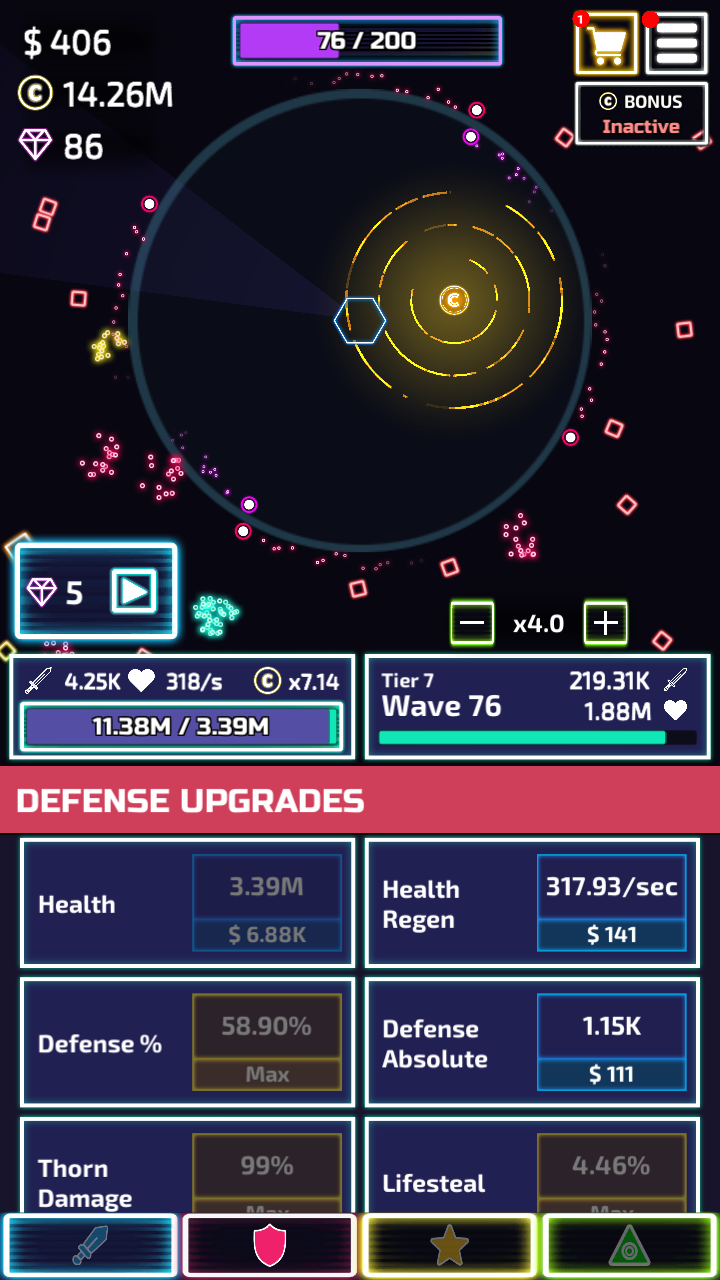B_Gem_Ad: (9, 538, 181, 637)
B_Menu_Action_Required: (638, 7, 703, 72)
B_Menu_Closed: (573, 8, 707, 75)
B_Shop_Action_Required: (570, 11, 636, 71)
B_Slot: (17, 838, 353, 959), (366, 977, 696, 1100), (366, 840, 697, 961), (19, 979, 352, 1098), (19, 1119, 347, 1210), (365, 1119, 696, 1209)
B_Slot_Button: (188, 859, 346, 954), (532, 996, 687, 1092), (533, 857, 688, 953), (189, 999, 343, 1090), (533, 1136, 688, 1209), (188, 1135, 341, 1208)
B_Slot_Label: (368, 1008, 508, 1080), (23, 1148, 147, 1214), (29, 1021, 174, 1073), (371, 870, 476, 937), (369, 1155, 502, 1204), (26, 879, 140, 927)
B_Slot_Maxed: (186, 994, 345, 1094), (531, 1134, 689, 1209), (185, 1134, 341, 1208)
B_Slot_Price: (210, 918, 322, 947), (570, 1055, 644, 1092), (570, 917, 644, 952)
B_Slot_TooExpensive: (185, 862, 349, 958)
B_Slot_Value: (539, 867, 679, 907), (549, 1143, 668, 1184), (203, 1007, 326, 1044), (206, 867, 320, 906), (556, 1005, 657, 1045), (211, 1147, 310, 1183)
B_Tab_Defense: (2, 766, 718, 836)
